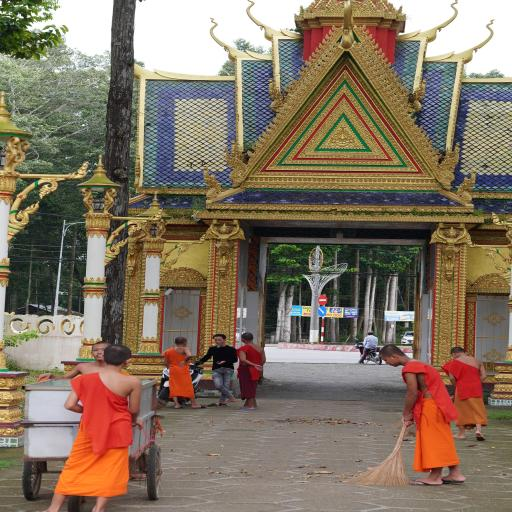lua: (232, 0, 304, 45), (444, 14, 501, 68), (406, 0, 466, 44), (202, 15, 253, 66)
ran: (429, 138, 466, 191), (218, 145, 251, 187), (189, 163, 225, 199), (454, 167, 482, 205), (9, 200, 43, 230), (404, 76, 430, 115), (225, 138, 253, 164), (264, 78, 286, 110)
than: (426, 222, 480, 283), (201, 218, 250, 278), (122, 226, 150, 278)
